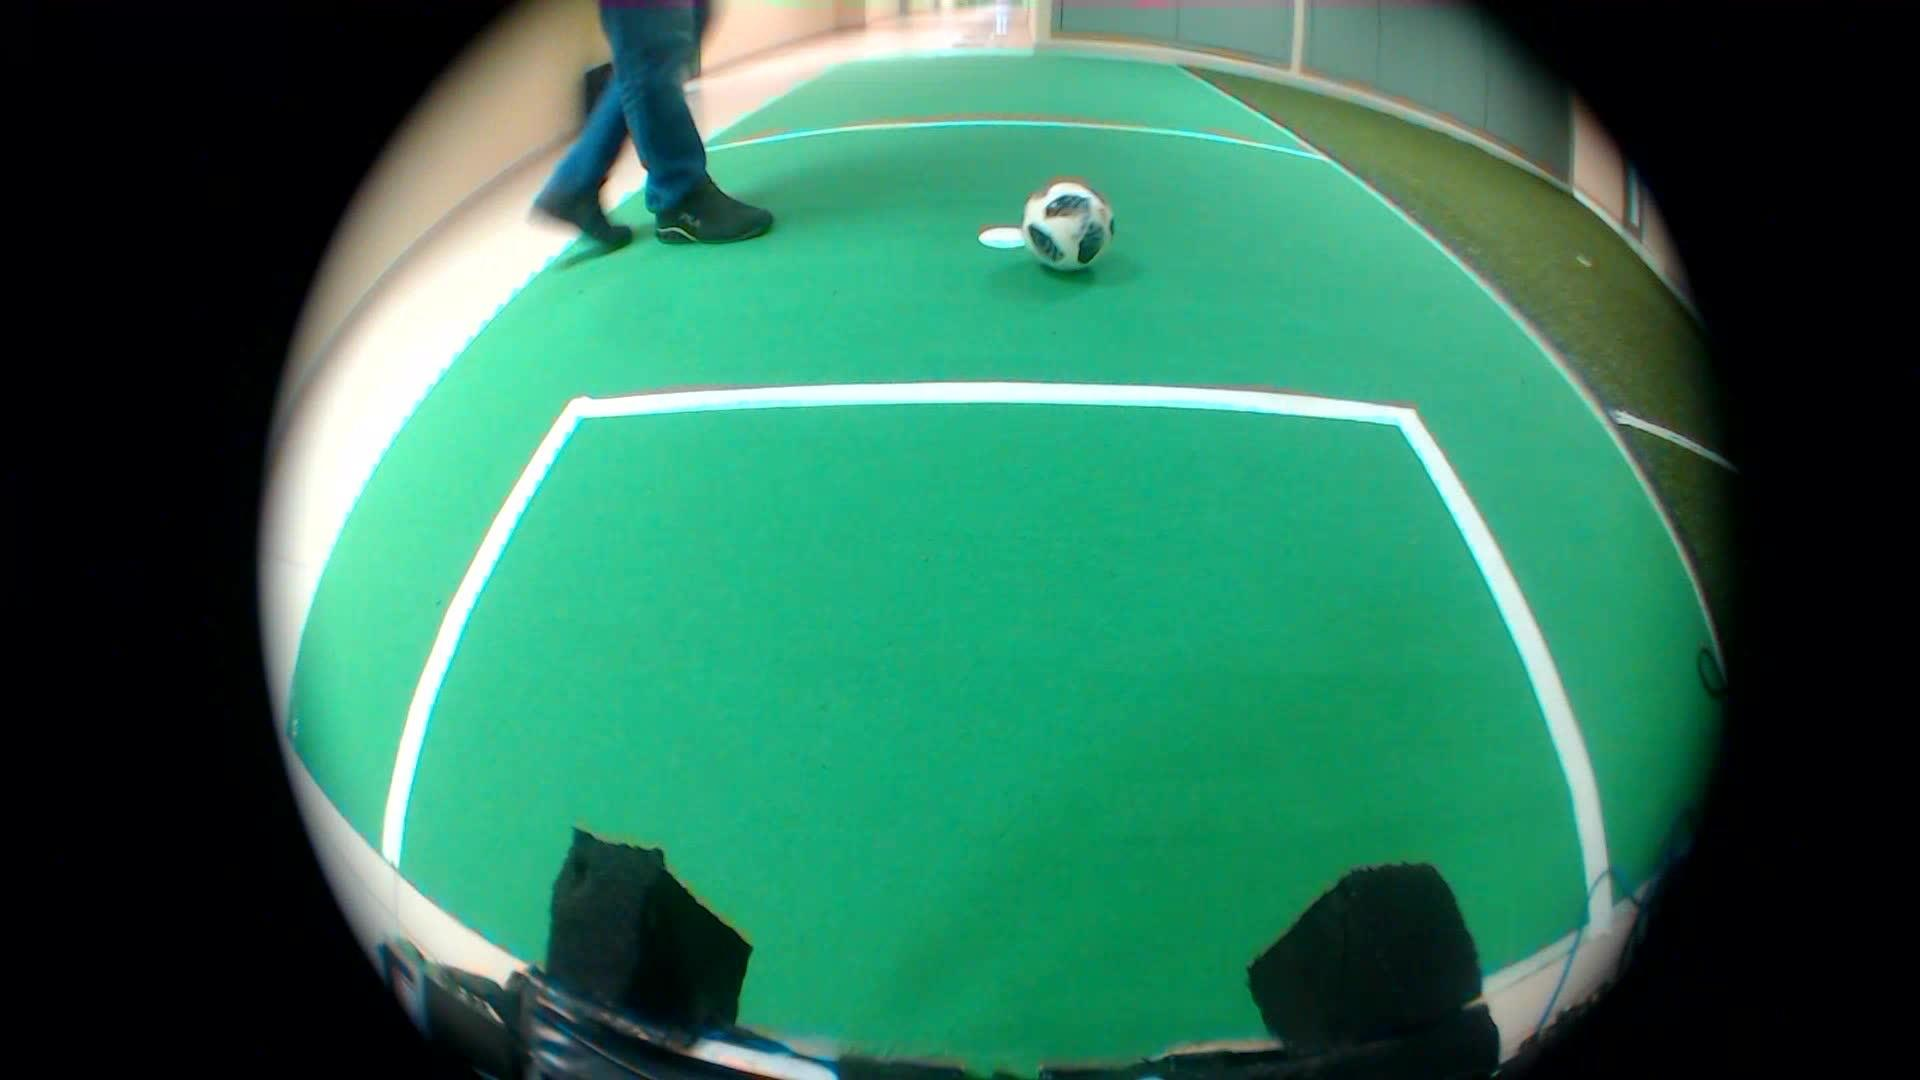ball: (1009, 164, 1126, 287)
